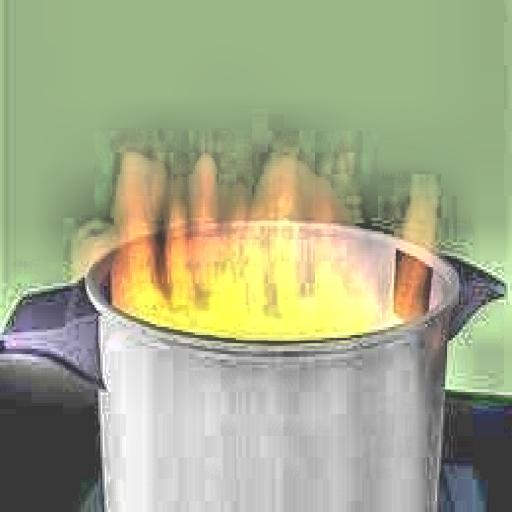fire: (102, 153, 447, 354)
